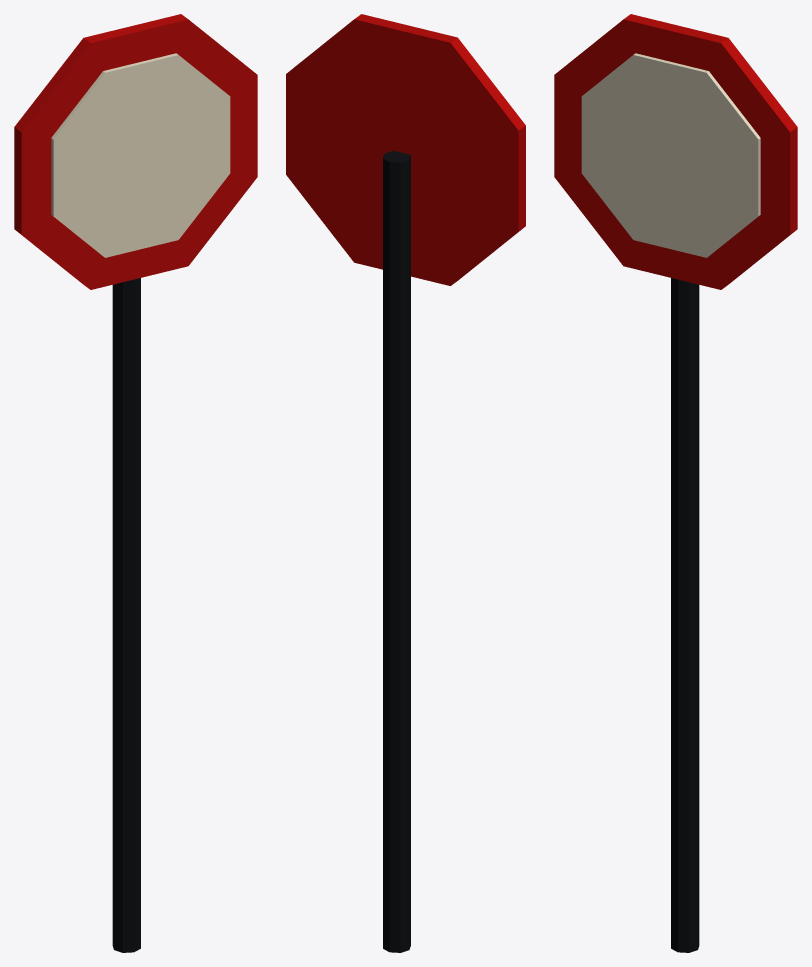
Rendered from stop_sign.obj.
3 views of the same model, side by side, from view 1: azimuth 30°, elevation 25°; view 2: azimuth 150°, elevation 25°; view 3: azimuth 330°, elevation 25° (orthographic).
Parts seen in each view (by area): view 1: stop_sign; view 2: stop_sign; view 3: stop_sign.
Part boxes in pixels (box(x1,y1,x2,y2)): stop_sign: box(14, 14, 257, 952); stop_sign: box(286, 14, 525, 952); stop_sign: box(554, 14, 797, 952).
Size of the model in its own units: 0.7391 by 2.77 by 0.1225.
